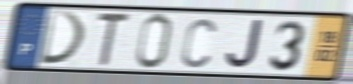0: (135, 11, 174, 72)
3: (267, 19, 307, 73)
C: (179, 16, 218, 70)
D: (37, 9, 89, 66)
J: (223, 18, 265, 71)
T: (95, 11, 132, 69)
